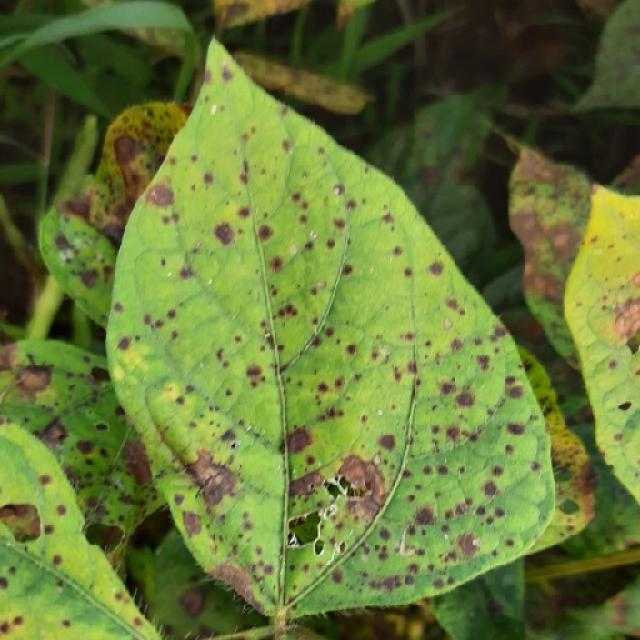Anthracnose: (520, 204, 584, 290), (109, 128, 155, 221), (184, 450, 243, 514), (300, 359, 364, 418), (207, 561, 260, 608), (334, 454, 381, 503), (0, 500, 44, 541), (123, 436, 155, 490), (275, 420, 314, 458), (12, 363, 53, 399), (344, 490, 384, 523), (611, 294, 640, 339), (287, 470, 326, 500), (58, 191, 93, 222), (217, 1, 254, 30), (529, 269, 563, 300), (113, 134, 140, 168), (38, 420, 68, 449), (97, 524, 125, 551), (180, 588, 205, 618), (146, 182, 174, 208), (608, 595, 630, 626), (455, 532, 480, 559), (181, 510, 203, 537), (213, 222, 236, 246), (412, 505, 436, 527), (80, 267, 99, 289), (377, 433, 396, 452), (455, 390, 475, 408), (558, 498, 580, 514), (245, 364, 263, 381), (7, 615, 24, 632), (482, 480, 498, 498), (257, 224, 273, 241), (268, 256, 284, 273), (506, 421, 525, 435), (476, 354, 491, 371), (428, 261, 443, 276), (440, 382, 455, 397), (178, 265, 193, 280), (116, 336, 131, 351), (221, 67, 234, 82), (237, 206, 251, 219), (334, 218, 346, 231), (345, 343, 357, 356), (203, 172, 214, 186), (618, 401, 633, 411), (55, 504, 67, 516), (332, 184, 344, 196), (317, 382, 329, 394), (52, 554, 63, 567), (264, 332, 275, 345), (372, 453, 382, 467), (443, 318, 453, 330), (337, 541, 346, 554), (403, 267, 413, 278), (393, 245, 403, 256), (289, 244, 298, 256)
Blackgram: (109, 41, 554, 616)
